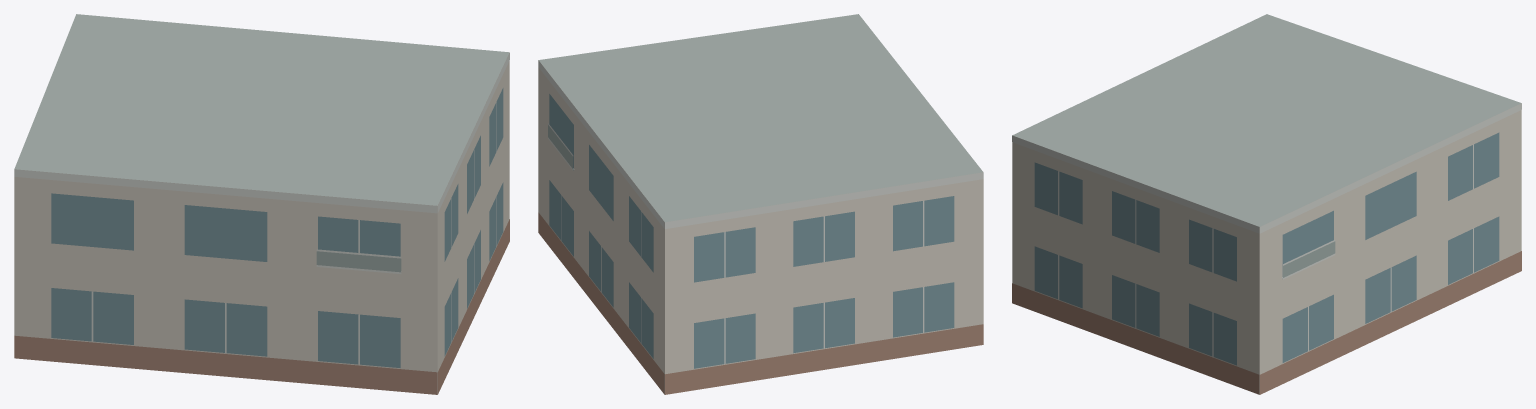
File: survey-upis-32606336.glb
The picture shows the model from 3 angles, left to right: view 1: azimuth 30°, elevation 25°; view 2: azimuth 150°, elevation 25°; view 3: azimuth 270°, elevation 25°; orthographic projection. The views are drawn at different scales.
Visible parts, largest first — view 1: survey-upis-32606336.tmp; view 2: survey-upis-32606336.tmp; view 3: survey-upis-32606336.tmp.
Part boxes in pixels (x1,y1,x2,y2): survey-upis-32606336.tmp: (14, 14, 509, 394); survey-upis-32606336.tmp: (538, 14, 983, 394); survey-upis-32606336.tmp: (1012, 14, 1521, 394).
Bounding box in the file's own units: 16.61 × 6.1 × 16.79.
